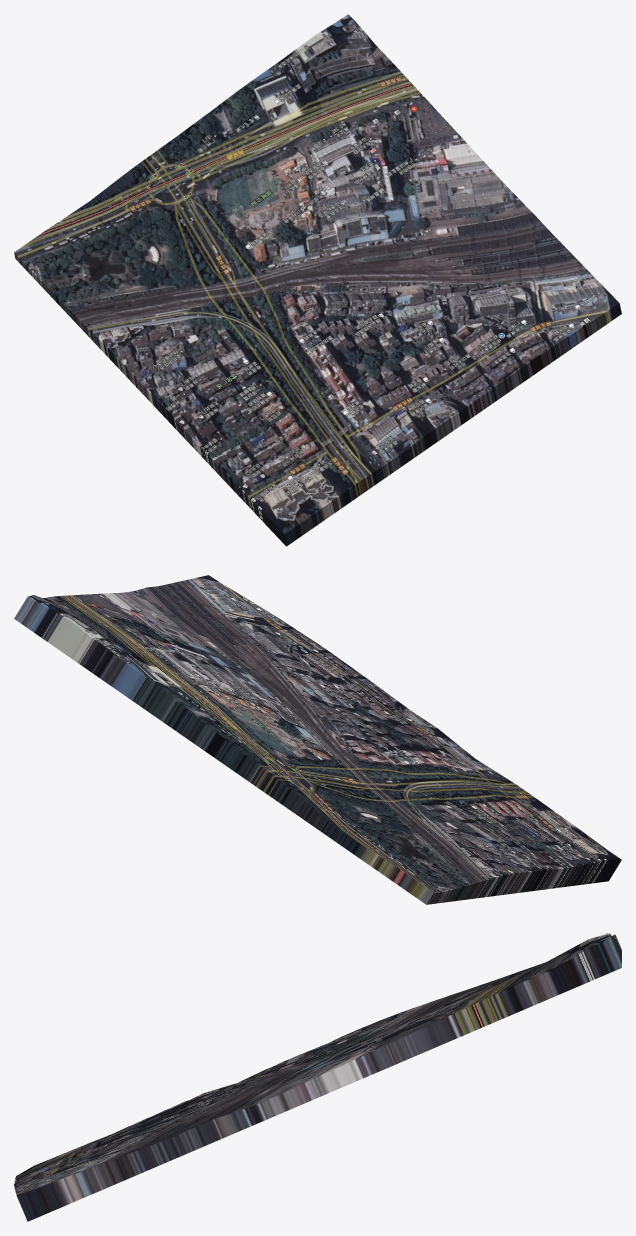
The picture shows the model from 3 angles, top to bottom: view 1: azimuth 30°, elevation 25°; view 2: azimuth 150°, elevation 25°; view 3: azimuth 270°, elevation 25°; orthographic projection. The views are drawn at different scales.
Visible parts, largest first — view 1: 0_5_10; view 2: 0_5_10; view 3: 0_5_10.
Part boxes in pixels (box(x1,y1,x2,y2)): 0_5_10: box(14, 14, 621, 546); 0_5_10: box(14, 575, 621, 904); 0_5_10: box(14, 933, 621, 1221).
Size of the model in its own units: 598 by 452 by 554.
Materials: 1 (1 with a texture image).
